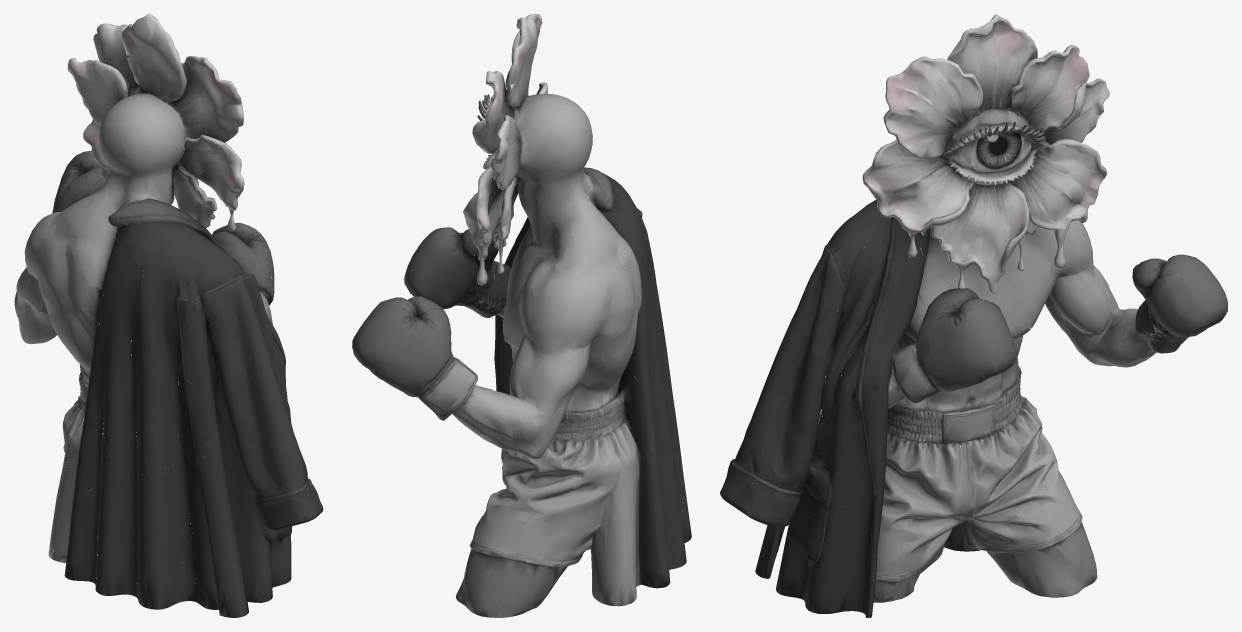
Rendered from boxer.glb.
3 renders of one model, left to right at view 1: azimuth 30°, elevation 25°; view 2: azimuth 150°, elevation 25°; view 3: azimuth 270°, elevation 25°, orthographic. The views are drawn at different scales.
Visible parts, largest first — view 1: tripo_node_32e92495-9b5a-467e-8c59-6b877dbd1230; view 2: tripo_node_32e92495-9b5a-467e-8c59-6b877dbd1230; view 3: tripo_node_32e92495-9b5a-467e-8c59-6b877dbd1230.
Boxes of the visible parts, x1=… form: tripo_node_32e92495-9b5a-467e-8c59-6b877dbd1230: x1=14, y1=14, x2=323, y2=617; tripo_node_32e92495-9b5a-467e-8c59-6b877dbd1230: x1=352, y1=14, x2=691, y2=617; tripo_node_32e92495-9b5a-467e-8c59-6b877dbd1230: x1=720, y1=14, x2=1227, y2=617.
Size of the model in its own units: 0.4451 by 0.9999 by 0.812.
Materials: 1 (1 with a texture image).
